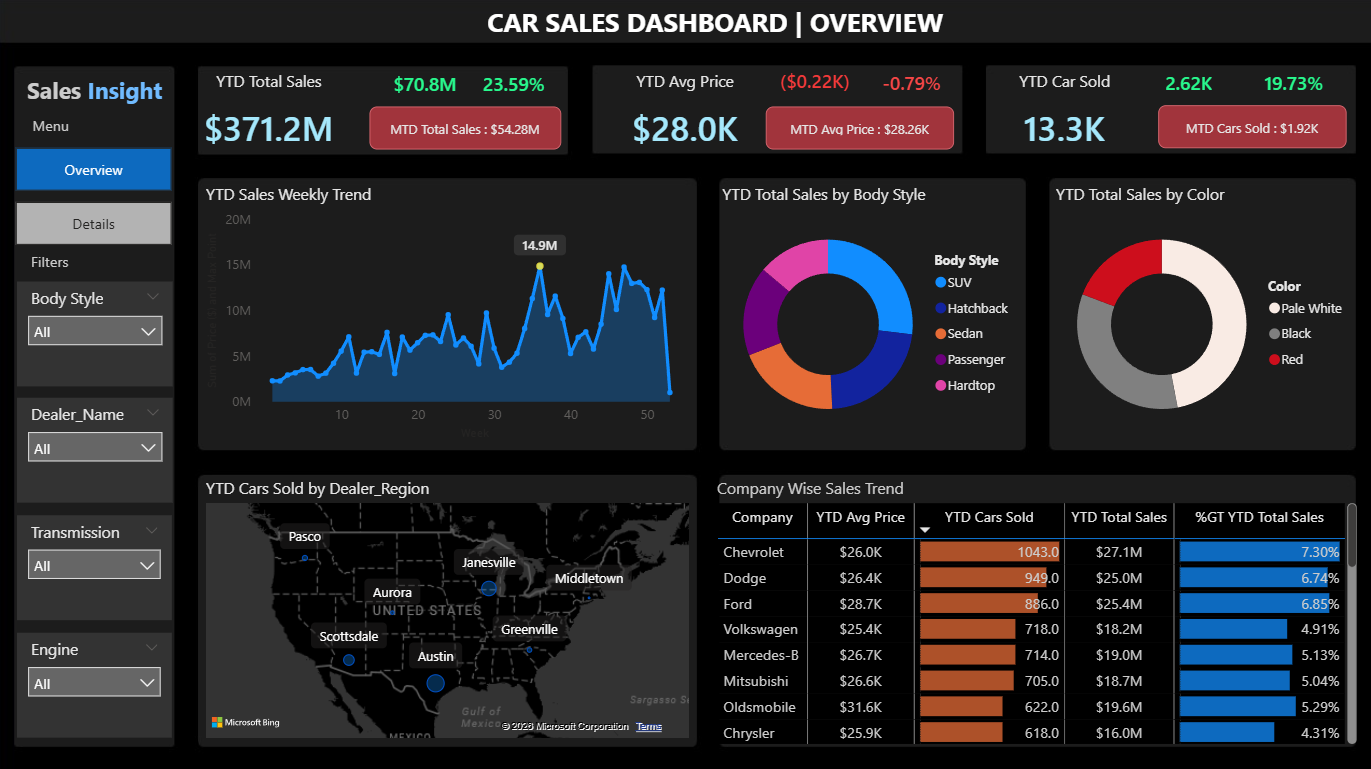

Layout of this report page (visuals, bound fields, positions):
{"tool":"powerbi","page":{"name":"Overview","canvas":[1280,720],"ordinal":0},"visuals":[{"type":"cardVisual","title":"YTD Total Sales","fields":{"Data":["car_data.YTD Total Sales"]},"box":[166.3,66.3,173.3,88.4],"z":0},{"type":"cardVisual","fields":{"Data":["car_data.Sales Difference"]},"box":[339.5,52.3,117.4,50],"z":1000},{"type":"cardVisual","fields":{"Data":["car_data.YOY Sales Growth"]},"box":[422.1,52.3,117.4,50],"z":2000},{"type":"cardVisual","fields":{"Data":["car_data.MTD KPI"]},"box":[347,100,178,40],"z":3000},{"type":"cardVisual","title":"YTD Avg Price","fields":{"Data":["car_data.YTD Avg Price"]},"box":[553.5,66.3,173.3,88.4],"z":4000},{"type":"cardVisual","fields":{"Data":["car_data.Avg Price Diff"]},"box":[702.5,48.8,117.5,50],"z":5000},{"type":"cardVisual","fields":{"Data":["car_data.YOY Avg Price Growth"]},"box":[793.8,52.5,113.8,47.5],"z":6000},{"type":"cardVisual","fields":{"Data":["car_data.MTD Avg Price KPI"]},"box":[715,100,175,40],"z":7000},{"type":"cardVisual","title":"YTD Car Sold","fields":{"Data":["car_data.YTD Cars Sold"]},"box":[907.5,66.2,172.5,88.8],"z":8000},{"type":"cardVisual","fields":{"Data":["car_data.Cars Sold Diff"]},"box":[1050,55,117.5,43.8],"z":9000},{"type":"cardVisual","fields":{"Data":["car_data.YoY Car Sold Growth"]},"box":[1147.5,55,117.5,43.8],"z":10000},{"type":"cardVisual","fields":{"Data":["car_data.MTD Cars Sold KPI"]},"box":[1080,98.8,175,40],"z":11000},{"type":"areaChart","title":"YTD Sales Weekly Trend","fields":{"Category":["Calender Table.Week"],"Y":["Sum(car_data.Price ($))","car_data.Max Point"]},"box":[190,171.2,458.8,243.8],"z":12000},{"type":"donutChart","fields":{"Category":["car_data.Body Style"],"Y":["car_data.YTD Total Sales"]},"box":[670,171.2,285,243.8],"z":13000},{"type":"map","fields":{"Category":["car_data.Dealer_Region"],"Size":["car_data.YTD Cars Sold"]},"box":[190,444.3,458.6,248.6],"z":14000},{"type":"tableEx","title":"Company Wise Sales Trend","fields":{"Values":["car_data.Company","car_data.YTD Avg Price","car_data.YTD Cars Sold","car_data.YTD Total Sales1","car_data.YTD Total Sales"]},"box":[670,443.8,595,248.8],"z":15000},{"type":"donutChart","fields":{"Y":["car_data.YTD Total Sales"],"Category":["car_data.Color"]},"box":[980,171.2,285,243.8],"z":16000},{"type":"textbox","box":[451.2,0,436.2,42.5],"z":17000},{"type":"slicer","fields":{"Values":["car_data.Body Style"]},"box":[19,262.5,145,97.5],"z":18000},{"type":"slicer","fields":{"Values":["car_data.Dealer_Name"]},"box":[19,371.2,145,97.5],"z":19000},{"type":"slicer","fields":{"Values":["car_data.Transmission"]},"box":[19,480,143.8,97.5],"z":20000},{"type":"slicer","fields":{"Values":["car_data.Engine"]},"box":[19,590,143.8,97.5],"z":21000},{"type":"textbox","box":[26.2,230,56.2,27.5],"z":22000},{"type":"textbox","box":[19.2,65.1,144.4,44.7],"z":23000},{"type":"textbox","box":[17.9,103.5,65.1,35.8],"z":24000},{"type":"pageNavigator","box":[17.9,138.5,145.2,91.6],"z":25000}]}

Visuals, with their boxes in screenshot pixels (x1, y1, x2, y2), scaled from the page's 1280x720 canvas onto the 1371x769 screenshot:
"YTD Total Sales" cardVisual: box(178, 71, 364, 165)
cardVisual - car_data.Sales Difference: box(364, 56, 489, 109)
cardVisual - car_data.YOY Sales Growth: box(452, 56, 578, 109)
cardVisual - car_data.MTD KPI: box(372, 107, 562, 150)
"YTD Avg Price" cardVisual: box(593, 71, 778, 165)
cardVisual - car_data.Avg Price Diff: box(752, 52, 878, 106)
cardVisual - car_data.YOY Avg Price Growth: box(850, 56, 972, 107)
cardVisual - car_data.MTD Avg Price KPI: box(766, 107, 953, 150)
"YTD Car Sold" cardVisual: box(972, 71, 1157, 166)
cardVisual - car_data.Cars Sold Diff: box(1125, 59, 1251, 106)
cardVisual - car_data.YoY Car Sold Growth: box(1229, 59, 1355, 106)
cardVisual - car_data.MTD Cars Sold KPI: box(1157, 106, 1344, 148)
"YTD Sales Weekly Trend" areaChart: box(204, 183, 695, 443)
donutChart - car_data.Body Style x car_data.YTD Total Sales: box(718, 183, 1023, 443)
map - car_data.Dealer_Region x car_data.YTD Cars Sold: box(204, 475, 695, 740)
"Company Wise Sales Trend" tableEx: box(718, 474, 1355, 740)
donutChart - car_data.YTD Total Sales x car_data.Color: box(1050, 183, 1355, 443)
textbox: box(483, 0, 950, 45)
slicer - car_data.Body Style: box(20, 280, 176, 384)
slicer - car_data.Dealer_Name: box(20, 396, 176, 501)
slicer - car_data.Transmission: box(20, 513, 174, 617)
slicer - car_data.Engine: box(20, 630, 174, 734)
textbox: box(28, 246, 88, 275)
textbox: box(21, 70, 175, 117)
textbox: box(19, 111, 89, 149)
pageNavigator: box(19, 148, 175, 246)
